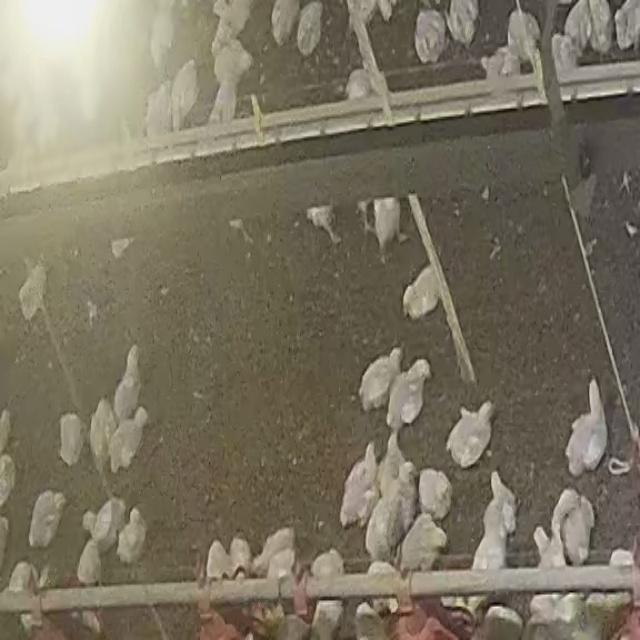chicken: (563, 376, 612, 474), (443, 397, 496, 471), (386, 356, 432, 432), (398, 514, 445, 574), (82, 495, 128, 556), (358, 348, 401, 412), (470, 471, 517, 529), (110, 404, 148, 474), (27, 486, 68, 550), (340, 454, 376, 526), (564, 487, 596, 566), (113, 344, 143, 424), (366, 494, 402, 560), (402, 264, 441, 322), (90, 397, 118, 475), (470, 519, 508, 576), (250, 526, 293, 575), (54, 405, 86, 469), (364, 559, 400, 615), (116, 504, 148, 566), (413, 7, 447, 62), (170, 59, 198, 125), (18, 261, 48, 321), (372, 196, 402, 256), (215, 36, 252, 83), (416, 470, 454, 515), (505, 8, 538, 58), (144, 81, 171, 137), (376, 434, 404, 487), (296, 1, 323, 54), (78, 541, 106, 587), (310, 550, 345, 582)
